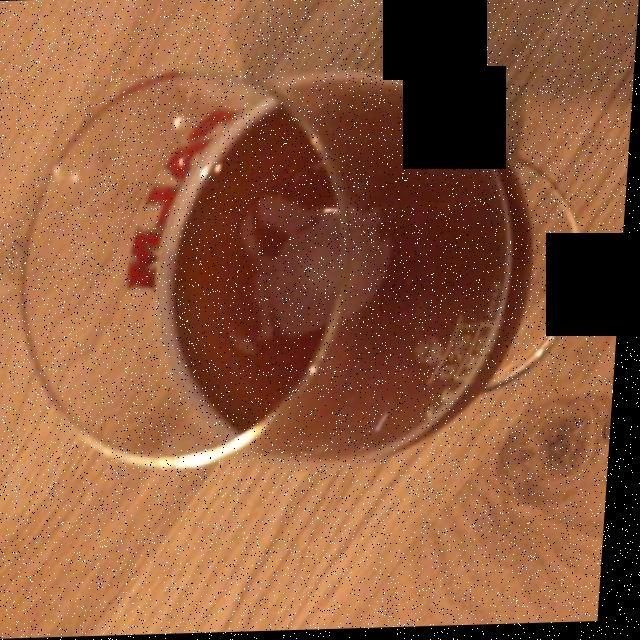tea: (160, 64, 519, 458)
